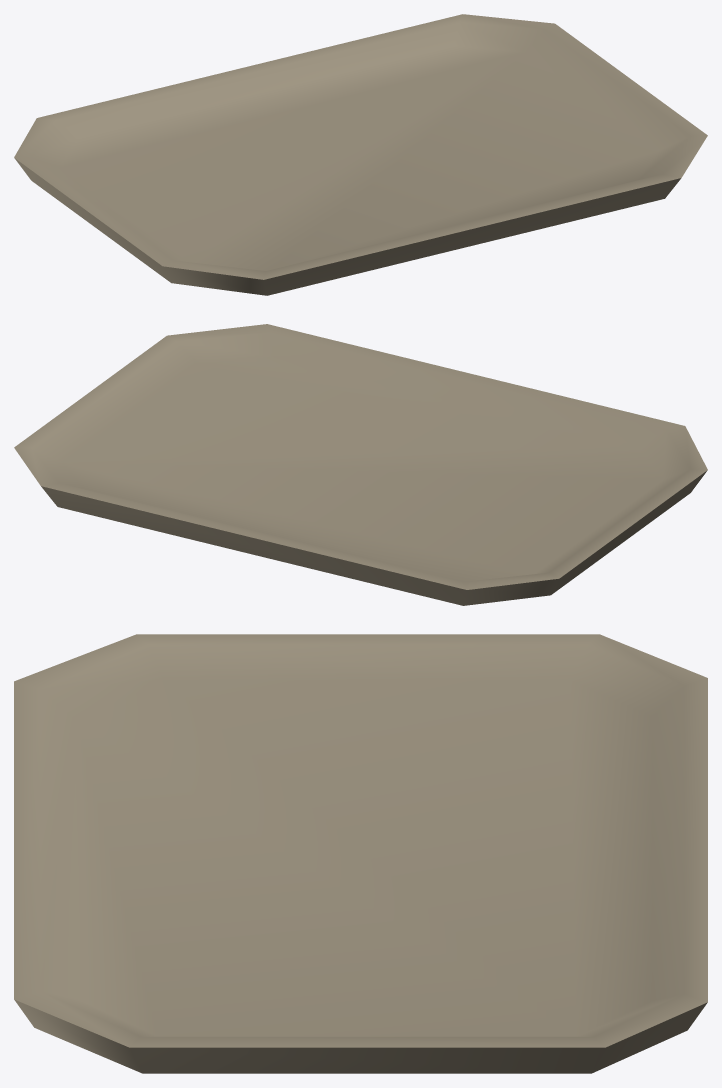
3 views of the same model, one above another, from view 1: azimuth 30°, elevation 25°; view 2: azimuth 150°, elevation 25°; view 3: azimuth 270°, elevation 25° (orthographic). The views are drawn at different scales.
Parts seen in each view (by area): view 1: G:\FFXIV-MapTools\exports\g3t1\bg\ex2\01_gyr_g3\twn\g3t1\bgp; view 2: G:\FFXIV-MapTools\exports\g3t1\bg\ex2\01_gyr_g3\twn\g3t1\bgp; view 3: G:\FFXIV-MapTools\exports\g3t1\bg\ex2\01_gyr_g3\twn\g3t1\bgp.
Boxes of the visible parts, x1,y1,x2,y2 form: G:\FFXIV-MapTools\exports\g3t1\bg\ex2\01_gyr_g3\twn\g3t1\bgp: [14, 14, 707, 295]; G:\FFXIV-MapTools\exports\g3t1\bg\ex2\01_gyr_g3\twn\g3t1\bgp: [14, 324, 707, 605]; G:\FFXIV-MapTools\exports\g3t1\bg\ex2\01_gyr_g3\twn\g3t1\bgp: [14, 634, 707, 1073].
Size of the model in its own units: 0.7773 by 0.0316 by 0.5518.
